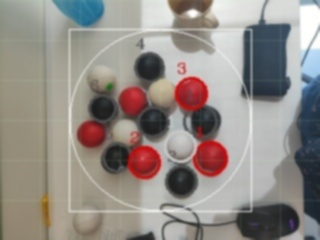Pelota blanca: (161, 205, 202, 240), (165, 129, 196, 162), (109, 117, 142, 147), (147, 77, 176, 108), (85, 65, 116, 94), (71, 209, 102, 237), (167, 0, 215, 18)
Pelota negra: (235, 203, 300, 240), (51, 0, 104, 27), (165, 165, 199, 201), (189, 105, 222, 141), (99, 141, 131, 174), (139, 107, 170, 141), (133, 51, 165, 82), (87, 93, 119, 120), (167, 0, 215, 18), (125, 231, 156, 240)
Pelota roja: (191, 139, 229, 177), (173, 75, 209, 111), (127, 145, 162, 180), (117, 85, 149, 117), (75, 119, 106, 148), (175, 61, 186, 75)
